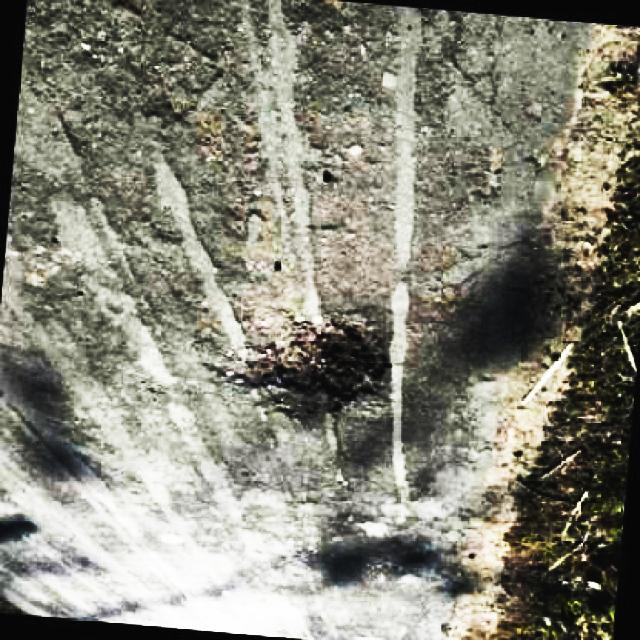pothole: (224, 312, 398, 417)
